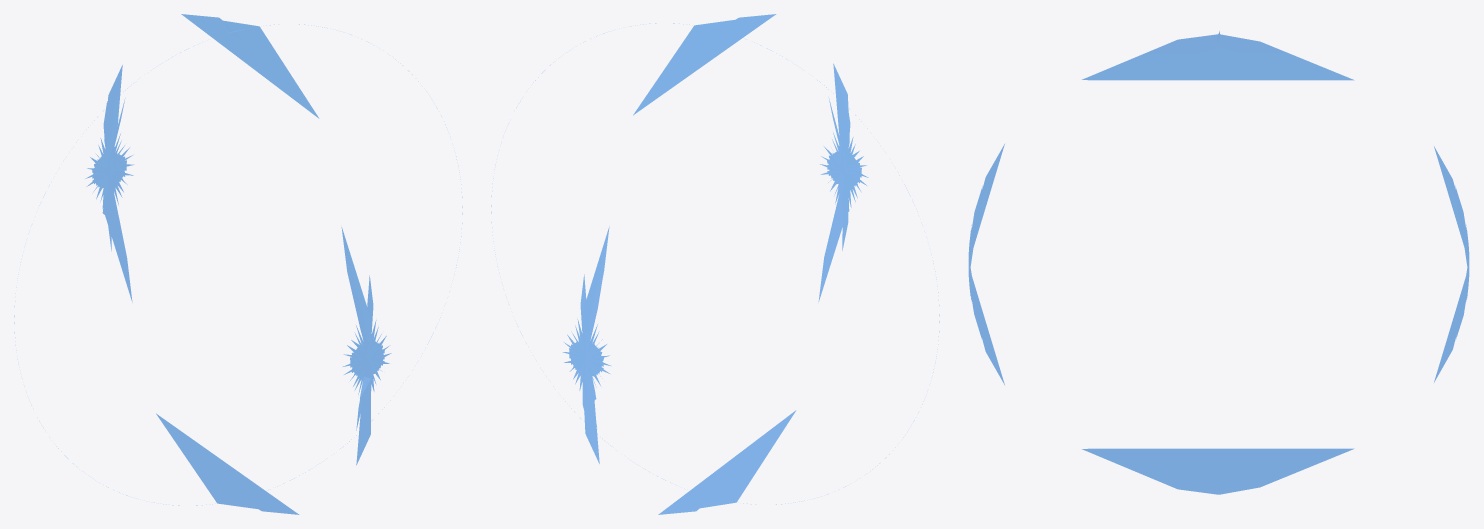
Rendered from tank-F0-3.glb.
3 views of the same model, side by side, from view 1: azimuth 30°, elevation 25°; view 2: azimuth 150°, elevation 25°; view 3: azimuth 270°, elevation 25° (orthographic). The views are drawn at different scales.
Parts seen in each view (by area): view 1: buoyancy_tanks; view 2: buoyancy_tanks; view 3: buoyancy_tanks.
Boxes of the visible parts, <box> form: buoyancy_tanks: <box>14,14,462,514</box>; buoyancy_tanks: <box>491,14,939,514</box>; buoyancy_tanks: <box>968,31,1469,494</box>.
Bounding box in the file's own units: 2 × 2 × 2.
